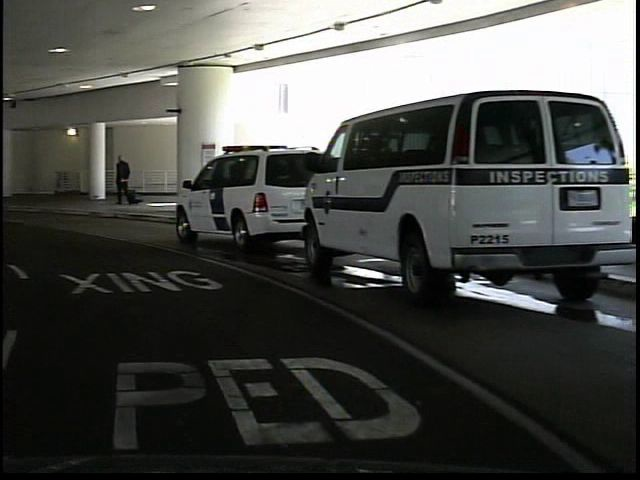person: (110, 150, 134, 210)
